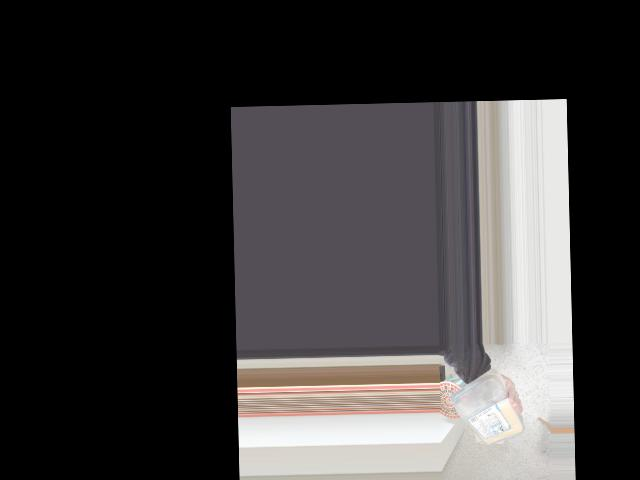cheese: (448, 376, 516, 452)
